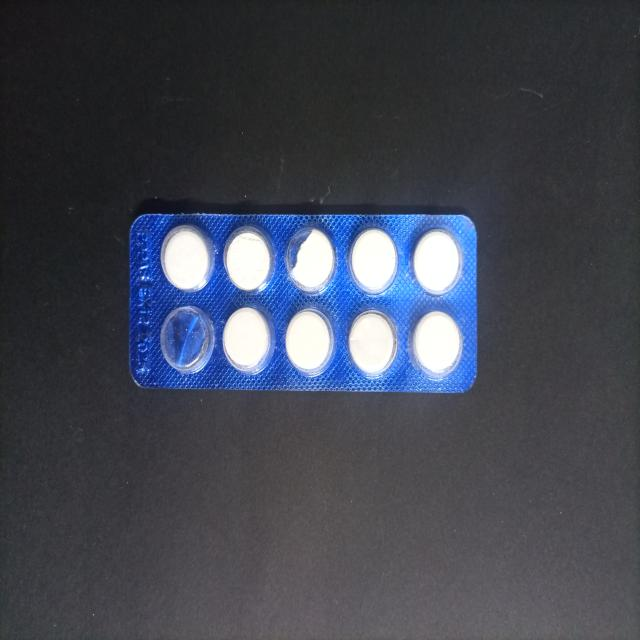defect: (159, 302, 217, 375), (284, 224, 338, 296)
